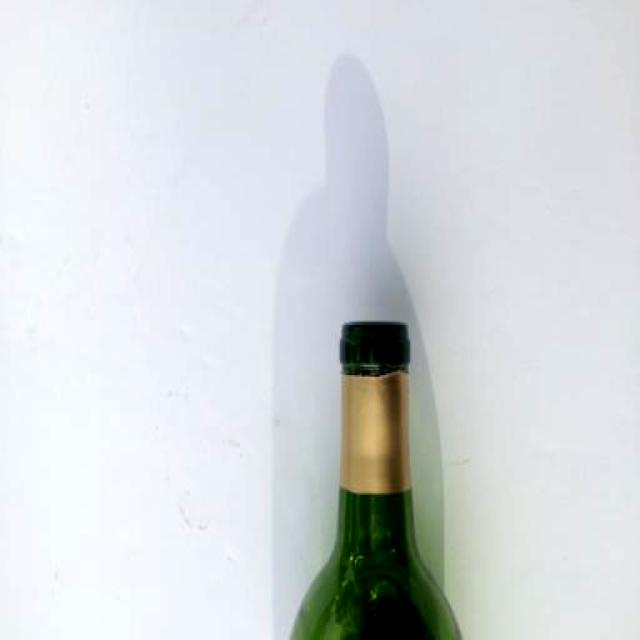Glass: (288, 314, 467, 640)
